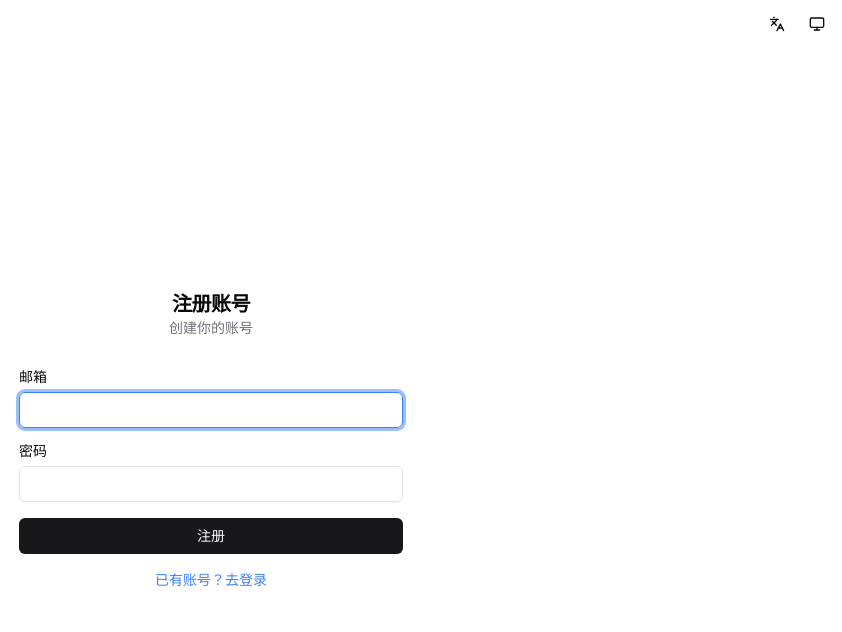
SignupPage › validates email and password
The image size is (842, 632).
Click the button "注册" at (211, 536), box [19,518,403,554]
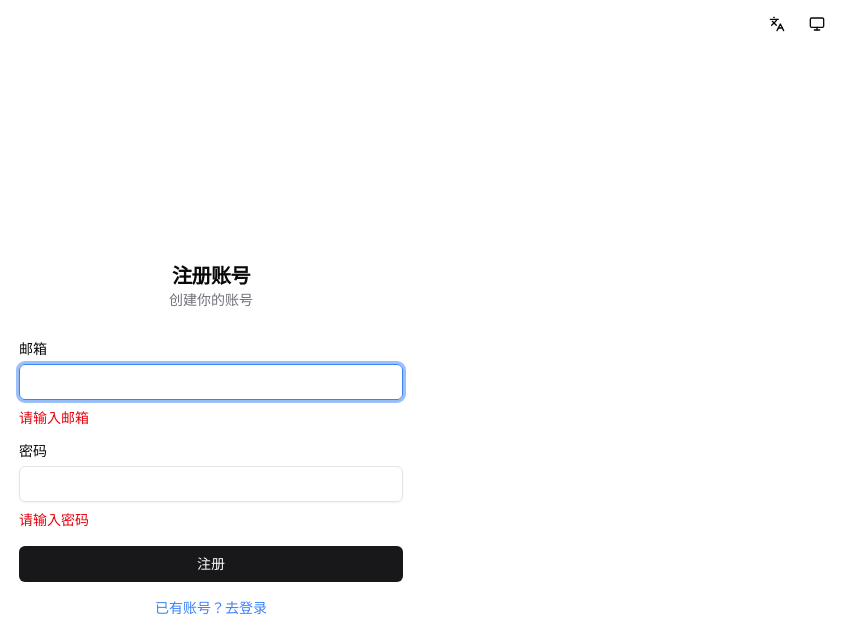
Now the text "请输入邮箱" is shown, box [19,408,89,427]
Now the text "请输入密码" is shown, box [19,510,89,529]
